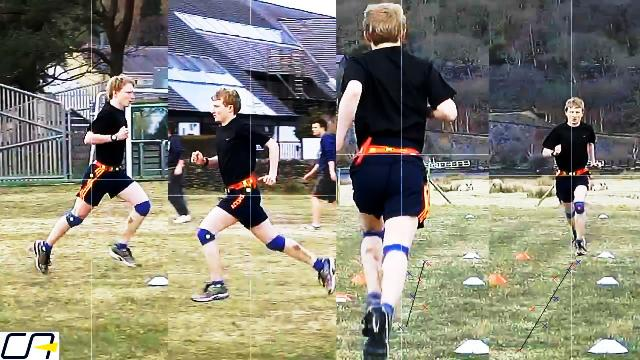berlari: (337, 2, 463, 360), (182, 88, 338, 312), (28, 76, 152, 286), (538, 88, 610, 252)
